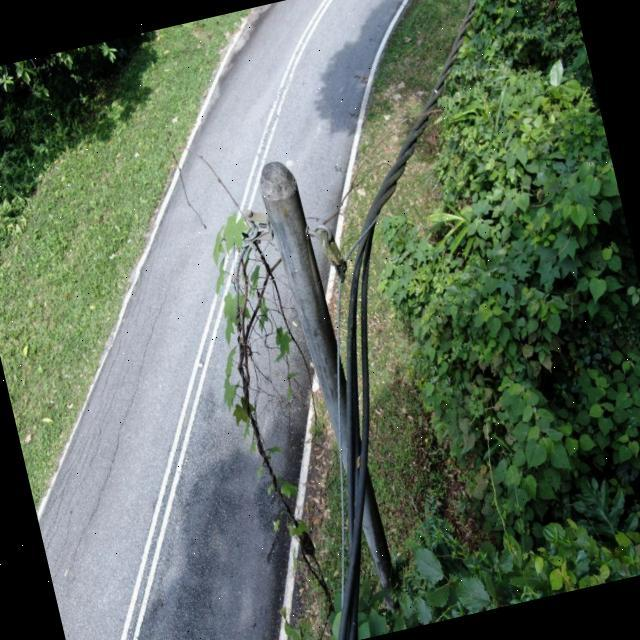critical vegetation: (172, 192, 368, 637)
